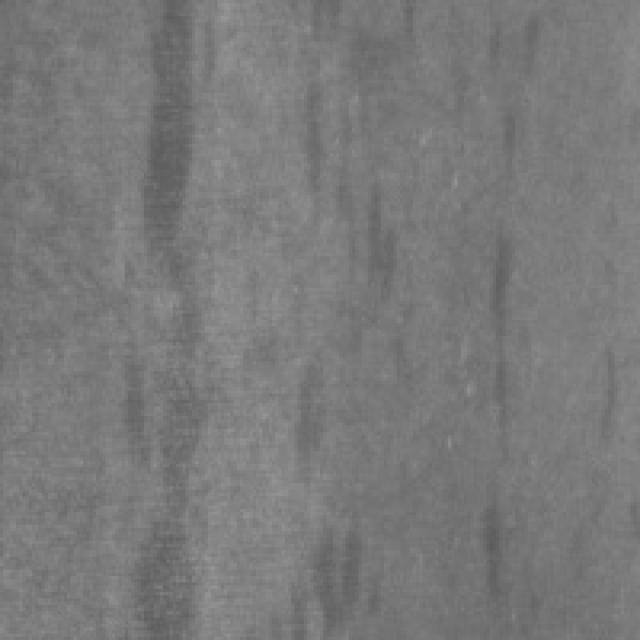inclusion: (108, 0, 217, 630), (275, 38, 355, 237), (467, 224, 528, 467), (272, 339, 339, 499), (332, 170, 410, 300), (298, 506, 371, 634), (454, 468, 512, 614), (573, 320, 624, 458), (477, 93, 534, 195)
